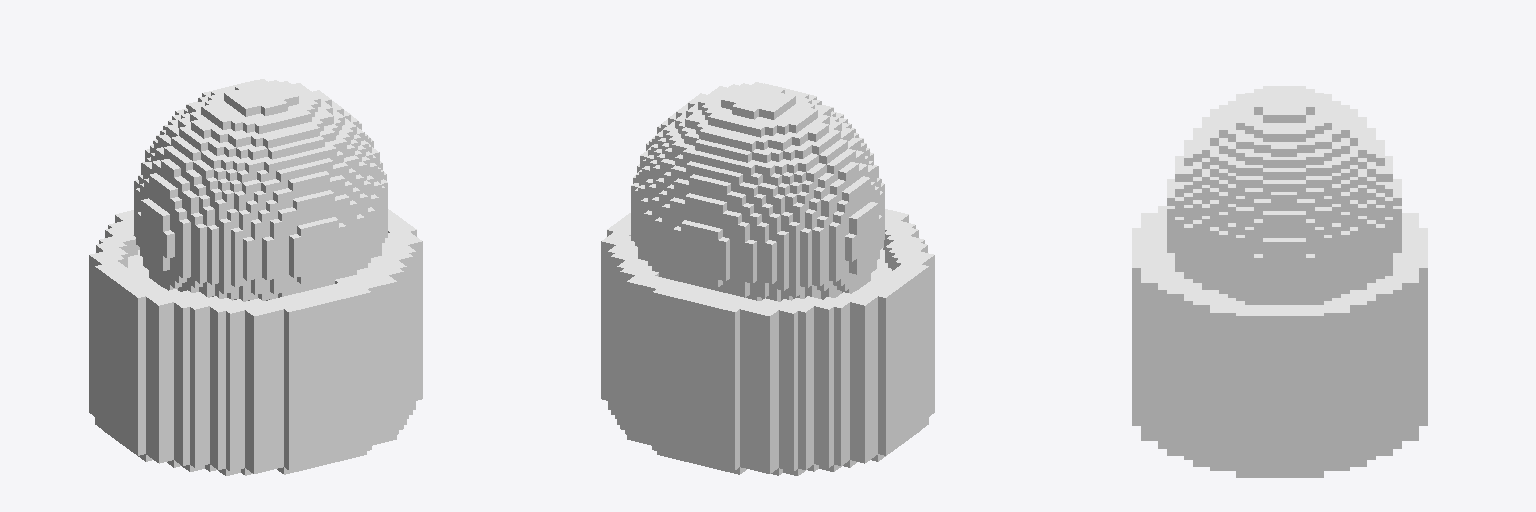
File: ice_full_strawbery-1.obj
3 views of the same model, side by side, from view 1: azimuth 30°, elevation 25°; view 2: azimuth 150°, elevation 25°; view 3: azimuth 270°, elevation 25° (orthographic).
Visible parts, largest first — view 1: object 1; view 2: object 1; view 3: object 1.
Part boxes in pixels (bbox=[...]): object 1: bbox=[89, 79, 422, 475]; object 1: bbox=[601, 82, 934, 475]; object 1: bbox=[1132, 86, 1427, 477].
Size of the model in its own units: 3.7 by 4 by 3.4.